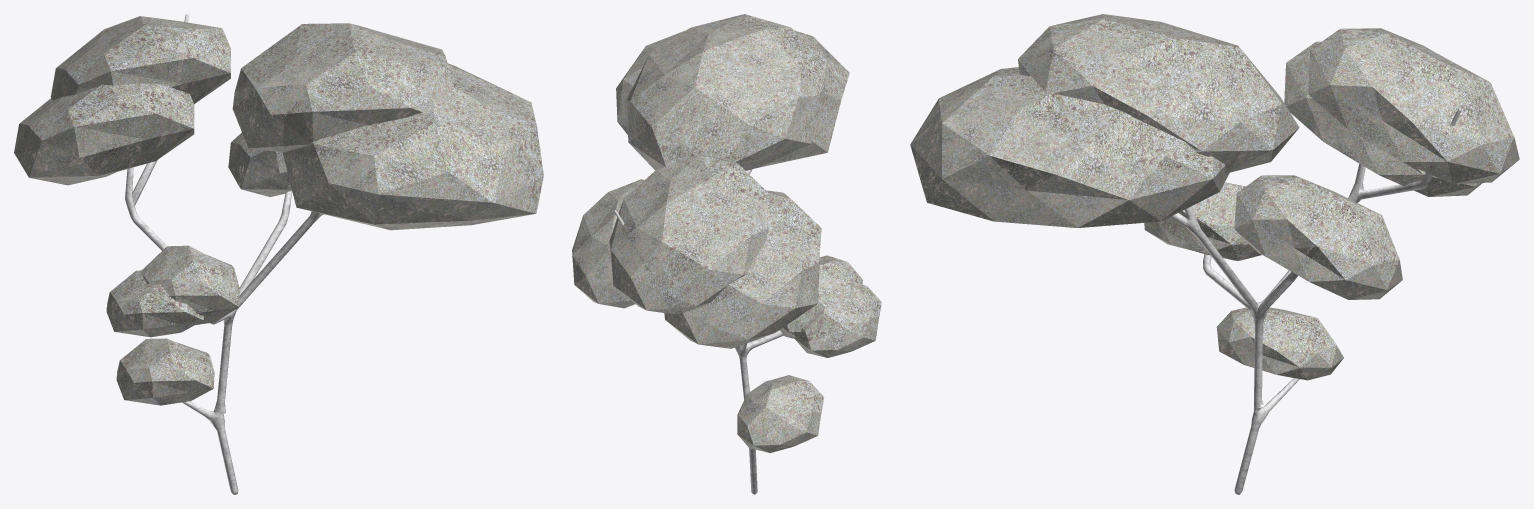
3 views of the same model, side by side, from view 1: azimuth 30°, elevation 25°; view 2: azimuth 150°, elevation 25°; view 3: azimuth 270°, elevation 25° (orthographic). The views are drawn at different scales.
Visible parts, largest first — view 1: tree; view 2: tree; view 3: tree.
Boxes of the visible parts, left/top/right/bottom form: tree: left=14, top=14, right=543, bottom=494; tree: left=572, top=14, right=881, bottom=494; tree: left=910, top=14, right=1519, bottom=494.
Size of the model in its own units: 40.14 by 51.93 by 56.81.
2 materials, 2 textured.
